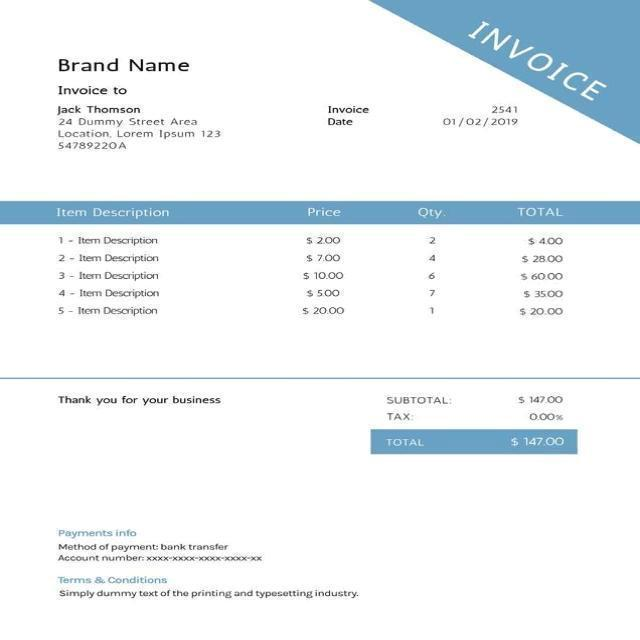paragraph: (361, 381, 601, 467), (460, 9, 625, 102), (54, 84, 230, 164), (51, 574, 370, 616), (48, 521, 274, 568), (321, 103, 536, 137), (47, 384, 227, 421), (51, 51, 196, 79)
table: (28, 194, 613, 359)
